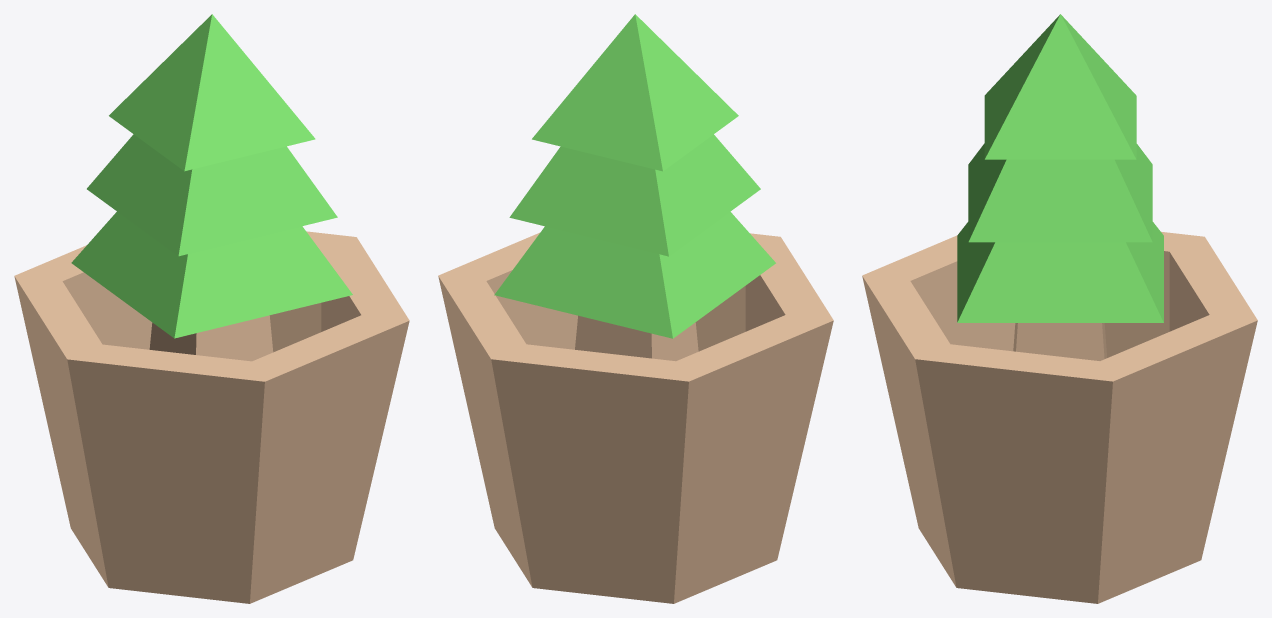
The model's file is plant_small_a.glb.
The picture shows the model from 3 angles, left to right: view 1: azimuth 30°, elevation 25°; view 2: azimuth 150°, elevation 25°; view 3: azimuth 270°, elevation 25°; orthographic projection.
Parts seen in each view (by area): view 1: plantSmall1(Clone); view 2: plantSmall1(Clone); view 3: plantSmall1(Clone).
Part boxes in pixels (x1,y1,x2,y2): plantSmall1(Clone): (14, 14, 409, 603); plantSmall1(Clone): (438, 14, 833, 603); plantSmall1(Clone): (862, 14, 1257, 603).
Bounding box in the file's own units: 0.2083 × 0.308 × 0.2083.
